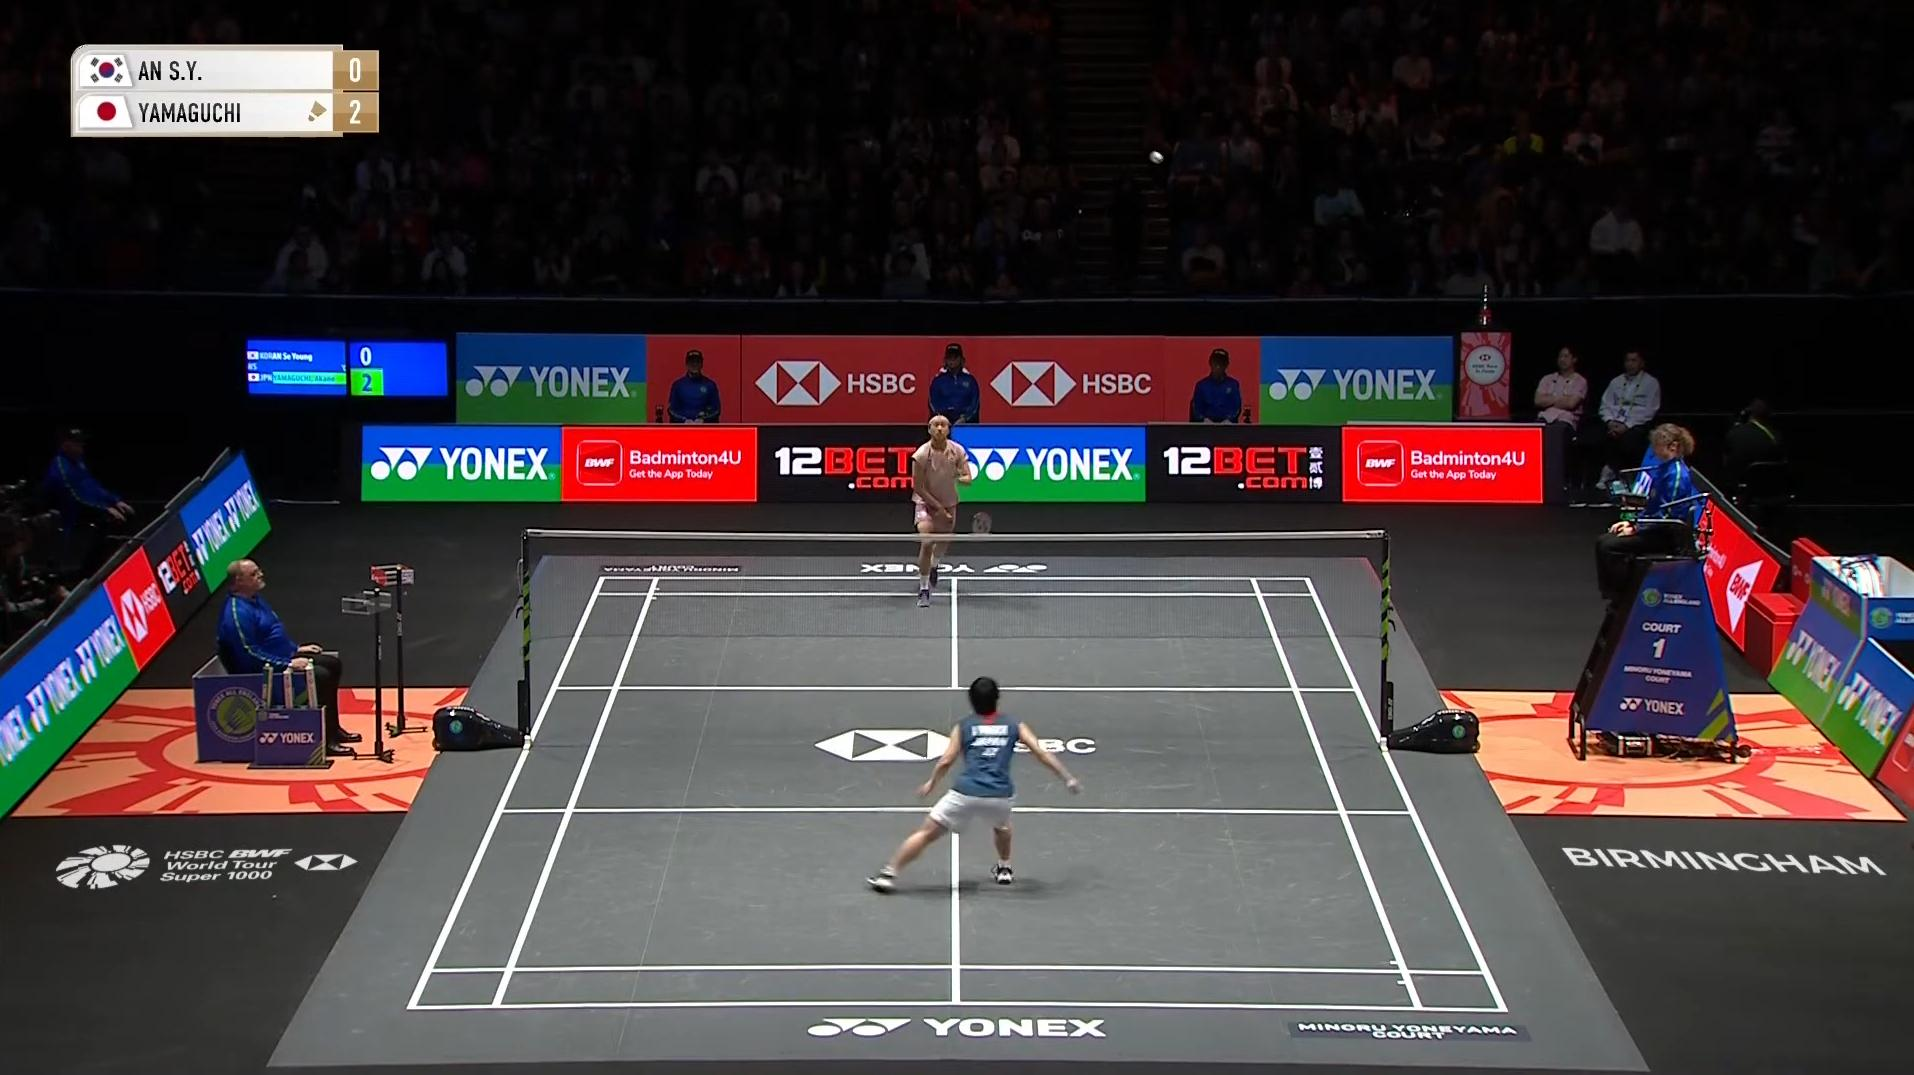shuttle: (1140, 145, 1170, 173)
